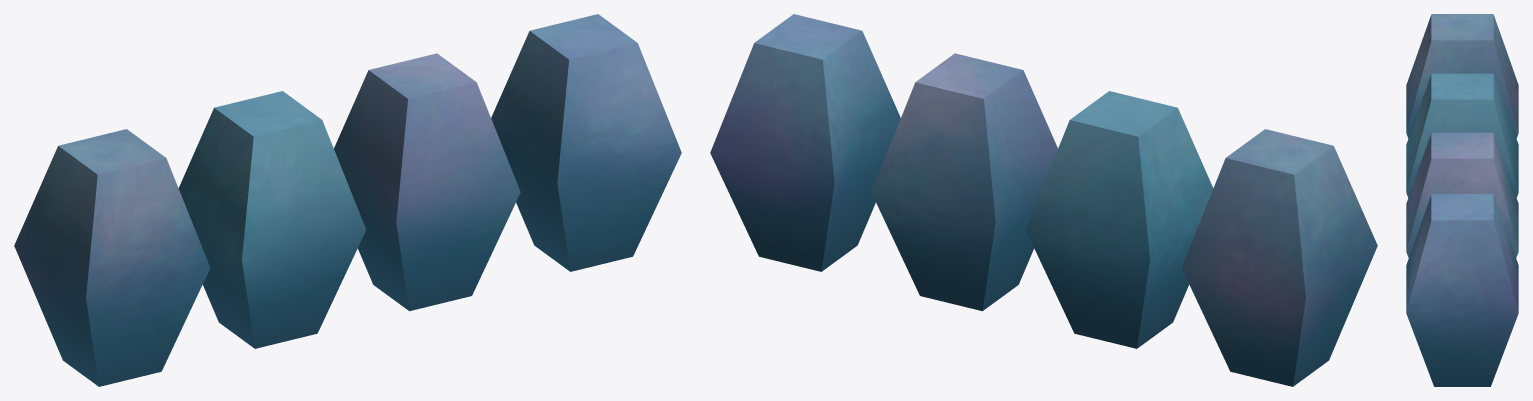
The model's file is plant_33.fbx.
3 views of the same model, side by side, from view 1: azimuth 30°, elevation 25°; view 2: azimuth 150°, elevation 25°; view 3: azimuth 270°, elevation 25° (orthographic). The views are drawn at different scales.
Parts seen in each view (by area): view 1: pCube7, pCube10, pCube8, pCube9; view 2: pCube7, pCube10, pCube8, pCube9; view 3: pCube10, pCube9, pCube7, pCube8.
Part boxes in pixels (bbox=[...]): pCube7: bbox=[14, 129, 210, 386]; pCube10: bbox=[491, 14, 681, 271]; pCube8: bbox=[178, 91, 366, 348]; pCube9: bbox=[334, 53, 520, 311]; pCube7: bbox=[1181, 129, 1377, 386]; pCube10: bbox=[710, 14, 900, 271]; pCube8: bbox=[1025, 91, 1213, 348]; pCube9: bbox=[871, 53, 1057, 311]; pCube10: bbox=[1406, 194, 1518, 386]; pCube9: bbox=[1406, 132, 1518, 257]; pCube7: bbox=[1406, 14, 1518, 138]; pCube8: bbox=[1406, 73, 1518, 197].
Bounding box in the file's own units: 4.59 × 1.58 × 0.9582.
